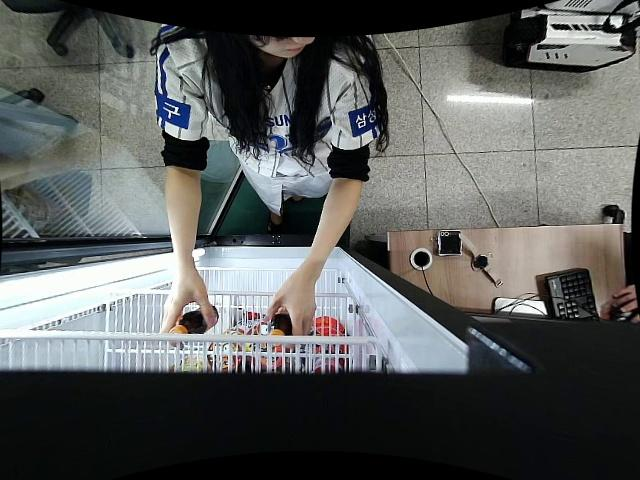00_hand: (158, 276, 216, 332), (264, 281, 317, 333)
17_vita500: (165, 303, 219, 345), (266, 309, 291, 350)
